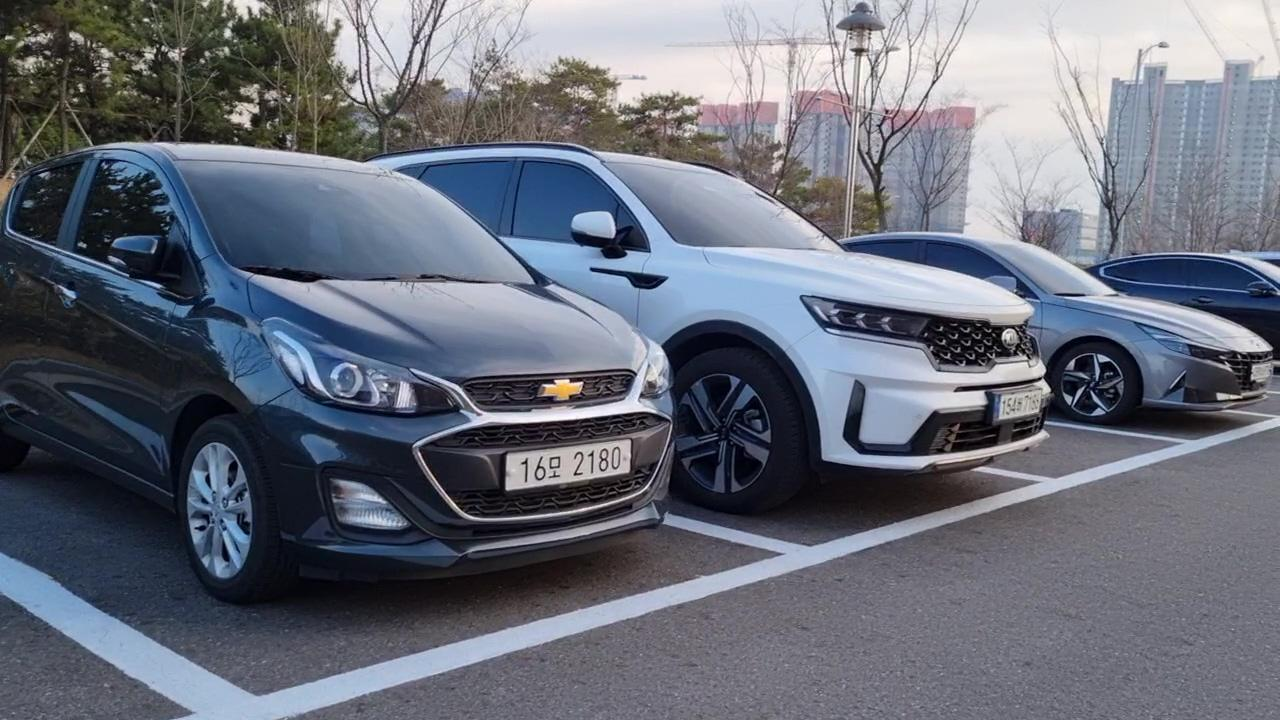occupied: (0, 92, 797, 720), (565, 188, 1049, 586), (1020, 283, 1252, 433)
